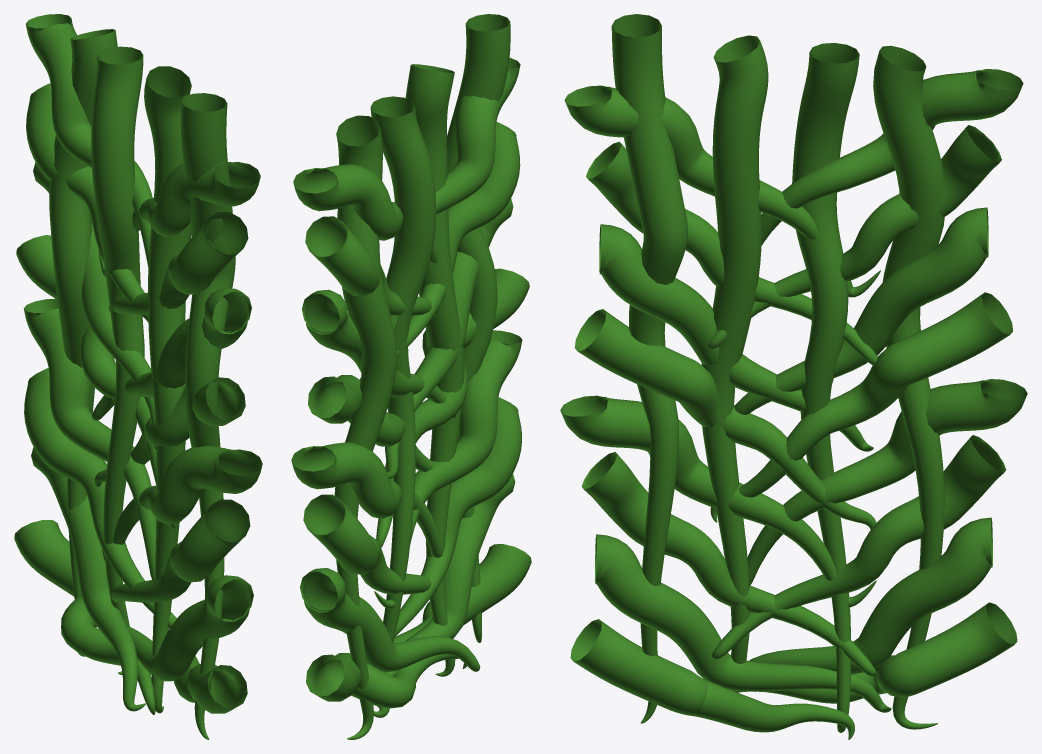
Rendered from hedge door.fbx.
The picture shows the model from 3 angles, left to right: view 1: azimuth 30°, elevation 25°; view 2: azimuth 150°, elevation 25°; view 3: azimuth 270°, elevation 25°; orthographic projection. The views are drawn at different scales.
Visible parts, largest first — view 1: hedgeDoor.001; view 2: hedgeDoor.001; view 3: hedgeDoor.001.
Part boxes in pixels (<box>): hedgeDoor.001: <box>14,14,262,739</box>; hedgeDoor.001: <box>291,14,531,739</box>; hedgeDoor.001: <box>560,14,1027,739</box>.
Size of the model in its own units: 55.78 by 384 by 232.
